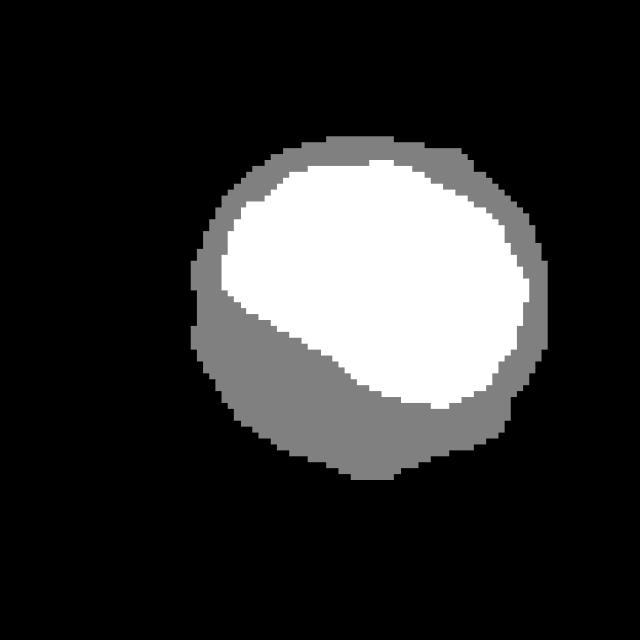WBC: (160, 124, 572, 510)
